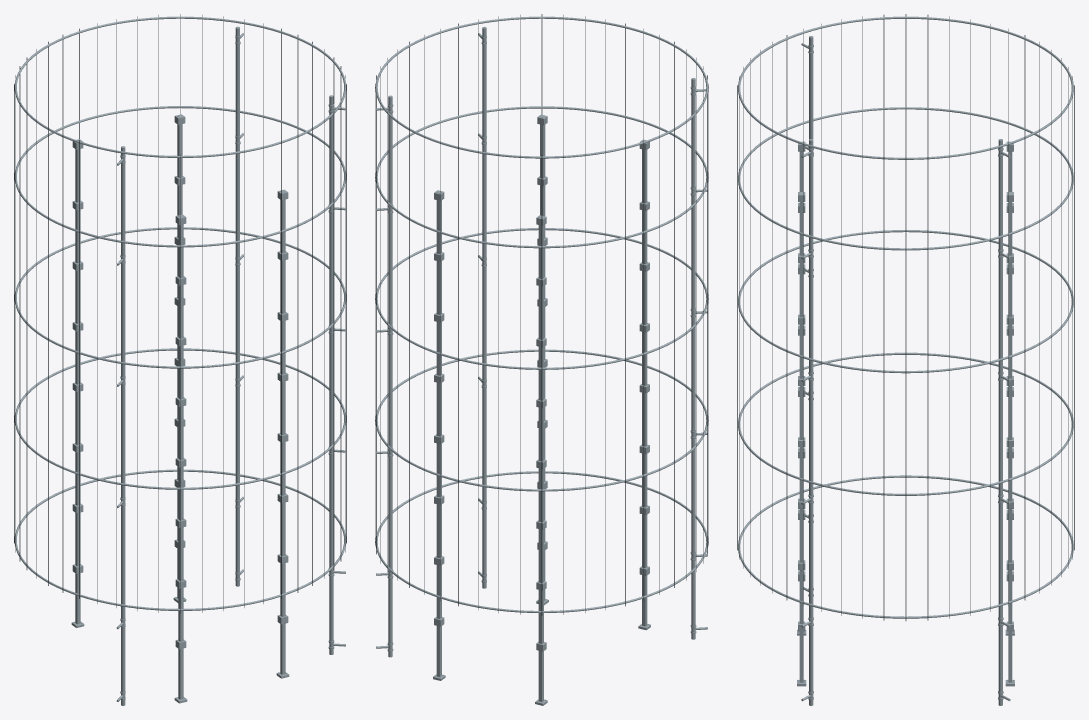
Rendered from TA_VA_Services.fbx.
The picture shows the model from 3 angles, left to right: view 1: azimuth 30°, elevation 25°; view 2: azimuth 150°, elevation 25°; view 3: azimuth 270°, elevation 25°; orthographic projection.
Visible parts, largest first — view 1: TA_VA_Services; view 2: TA_VA_Services; view 3: TA_VA_Services.
Boxes of the visible parts, x1,y1,x2,y2 form: TA_VA_Services: (14,14,346,705); TA_VA_Services: (375,14,708,705); TA_VA_Services: (737,14,1074,705).
Size of the model in its own units: 995 by 1870 by 996.
